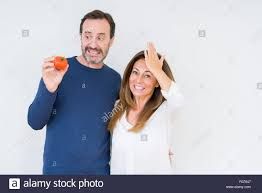tomato: (54, 55, 67, 69)
